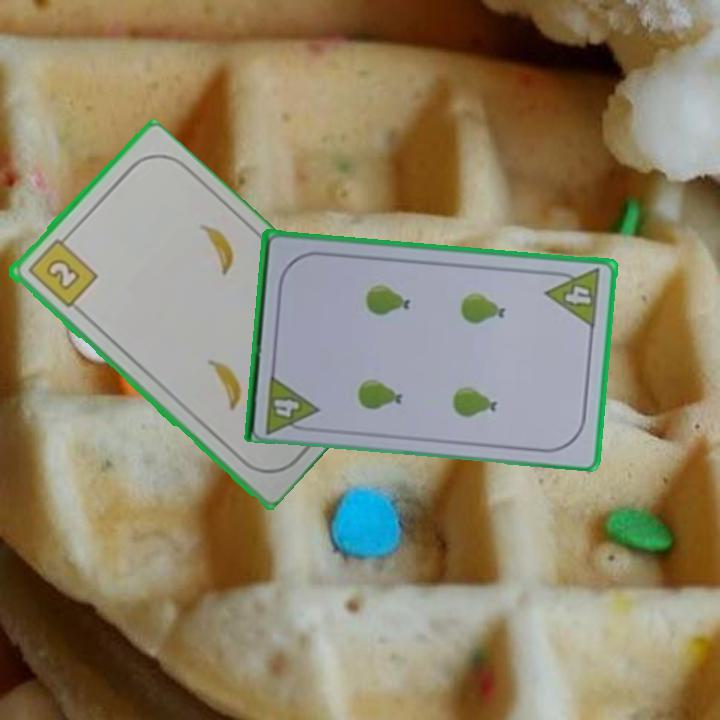2b: (23, 230, 100, 311)
4p: (542, 265, 603, 330), (261, 370, 321, 435)
